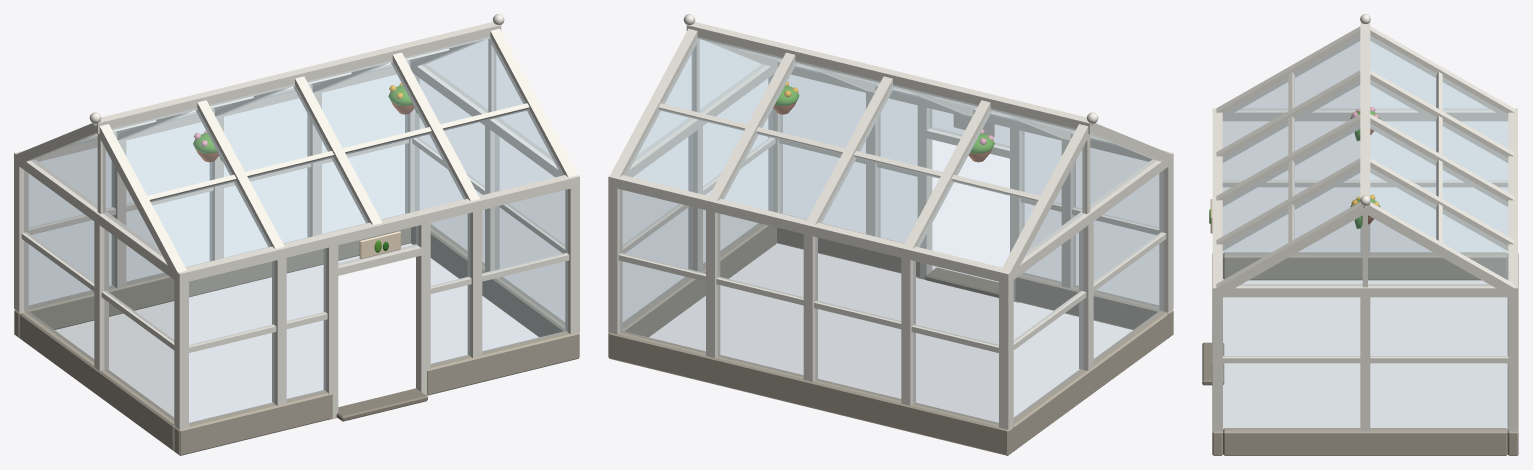
The model's file is greenhouse.glb.
3 views of the same model, side by side, from view 1: azimuth 30°, elevation 25°; view 2: azimuth 150°, elevation 25°; view 3: azimuth 270°, elevation 25° (orthographic). The views are drawn at different scales.
Visible parts, largest first — view 1: Greenhouse_Body; view 2: Greenhouse_Body; view 3: Greenhouse_Body.
Part boxes in pixels (left/top/right/bottom): Greenhouse_Body: left=14, top=14, right=579, bottom=455; Greenhouse_Body: left=608, top=14, right=1173, bottom=455; Greenhouse_Body: left=1202, top=14, right=1518, bottom=455.
Bounding box in the file's own units: 4.02 × 2.63 × 2.89.
